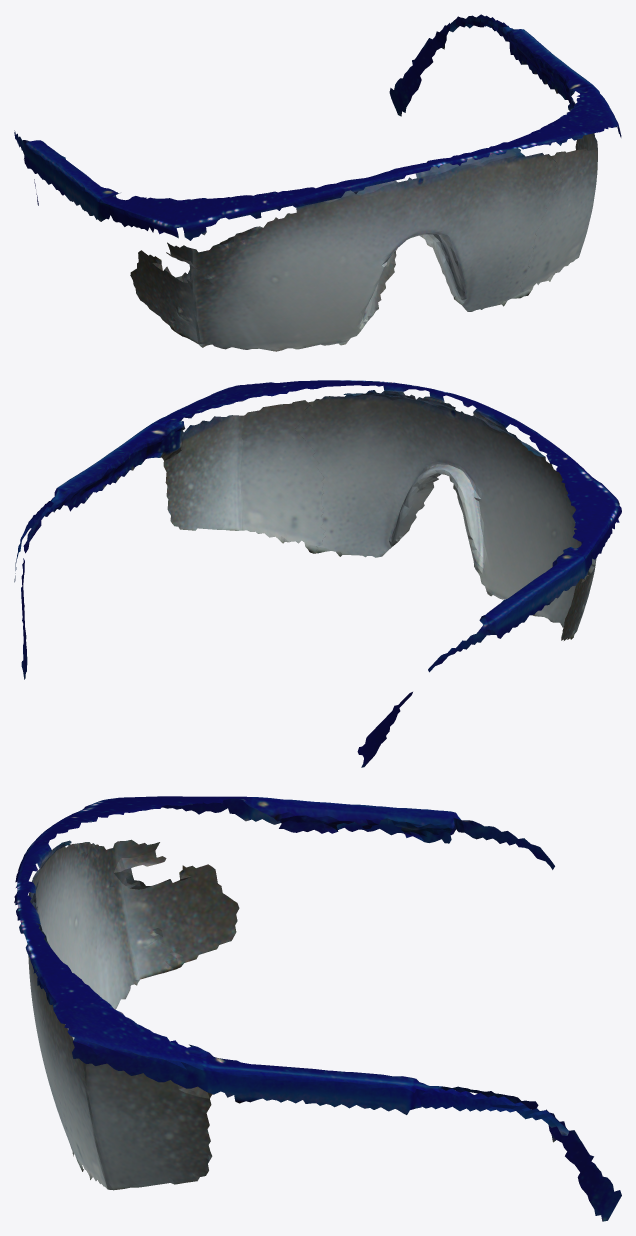
File: scan_align.obj
The picture shows the model from 3 angles, top to bottom: view 1: azimuth 30°, elevation 25°; view 2: azimuth 150°, elevation 25°; view 3: azimuth 270°, elevation 25°; orthographic projection. The views are drawn at different scales.
Size of the model in its own units: 0.1554 by 0.0545 by 0.1359.
Materials: 1 (1 with a texture image).
